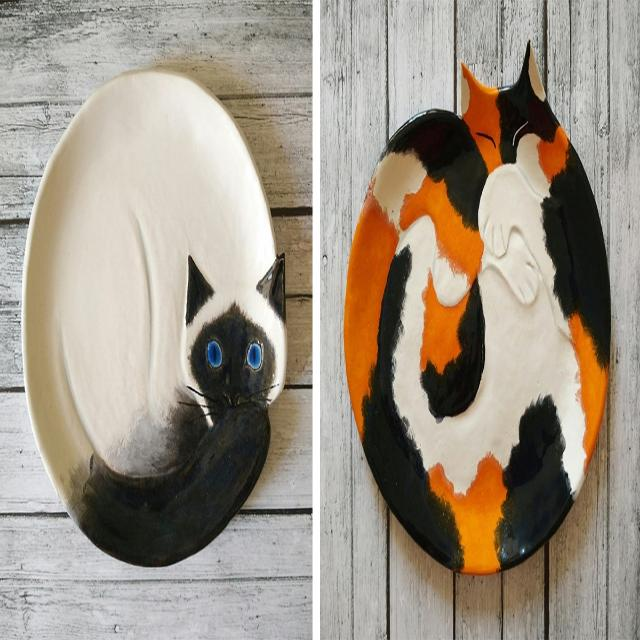non-organic waste: (344, 41, 620, 594), (22, 56, 294, 585)
